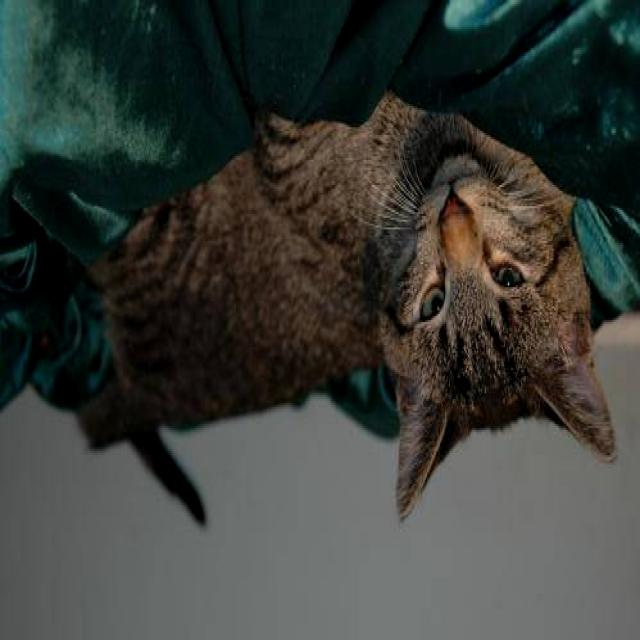Kucing: (50, 82, 628, 565)
